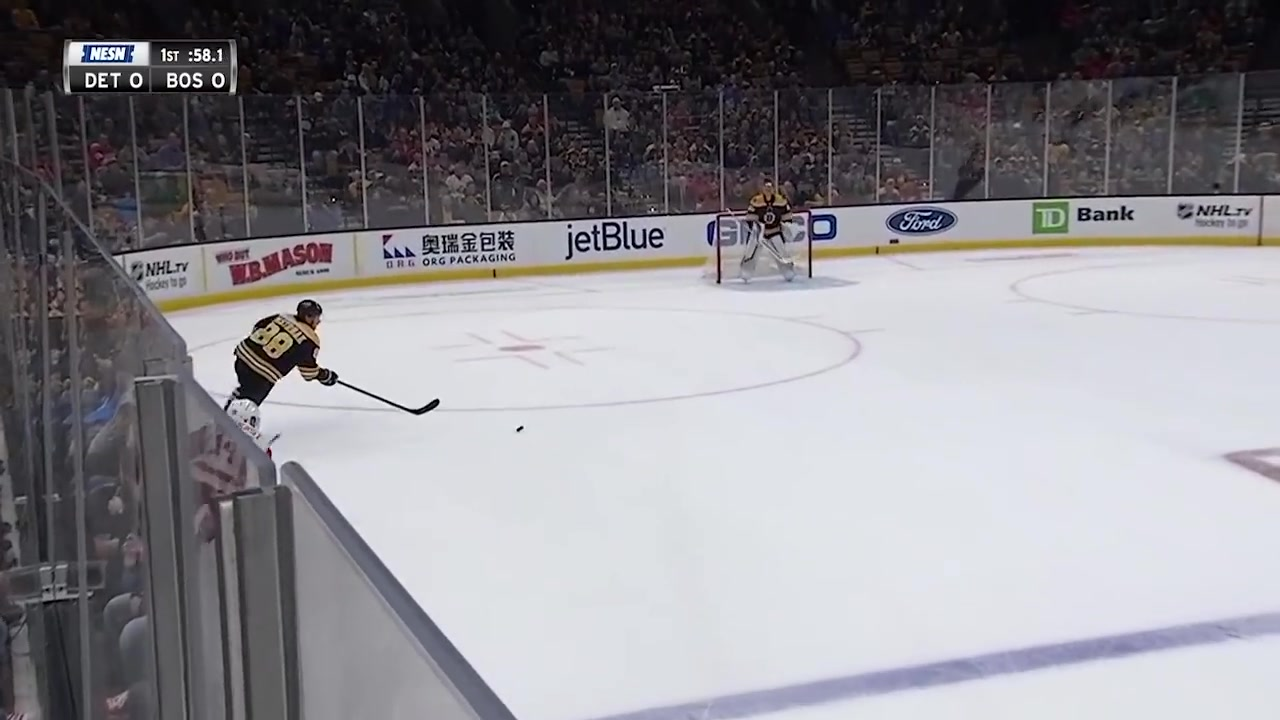Geico: (708, 210, 847, 252)
